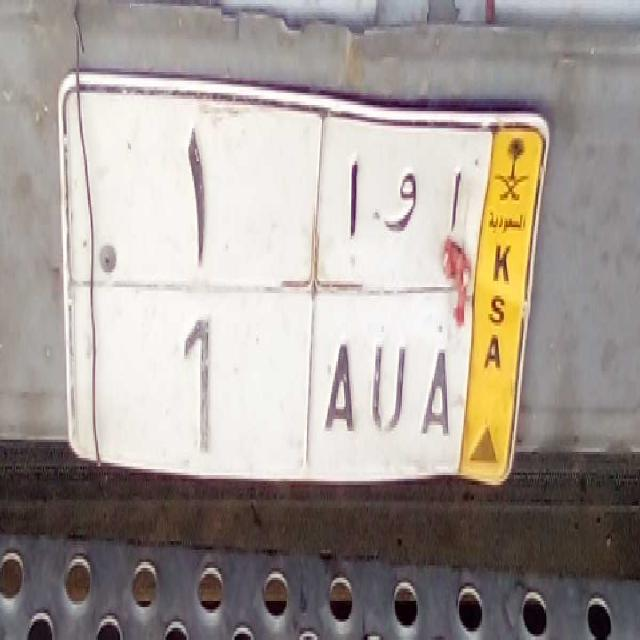license_plate: (110, 291, 459, 487)
